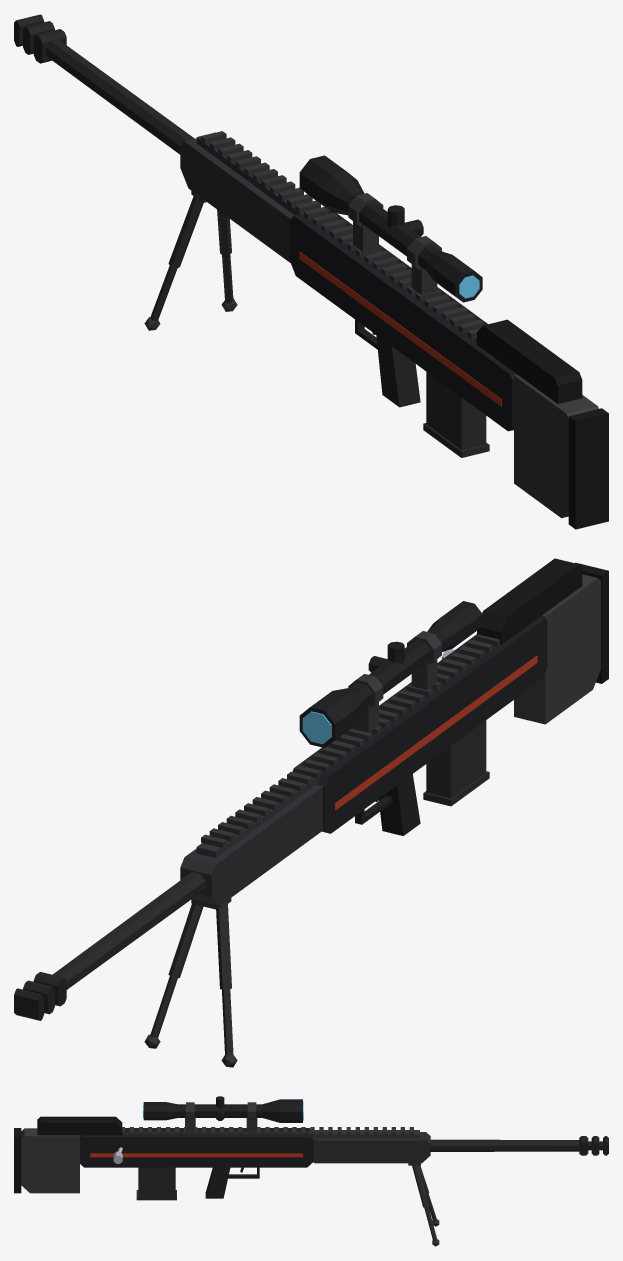
Rendered from Viper.obj.
3 views of the same model, one above another, from view 1: azimuth 30°, elevation 25°; view 2: azimuth 150°, elevation 25°; view 3: azimuth 270°, elevation 25° (orthographic). The views are drawn at different scales.
Visible parts, largest first — view 1: Body, Pad, Mount, Stock, Scope, Handguard, Barrel, Magazine, Bipod, Grip, Accent, Muzzle; view 2: Body, Mount, Stock, Handguard, Scope, Pad, Barrel, Bipod, Magazine, Muzzle, Accent, Grip (+1 smaller); view 3: Body, Stock, Handguard, Mount, Scope, Pad, Barrel, Magazine, Accent, Bipod, Grip, Muzzle.
Part boxes in pixels (x1,y1,x2,y2): Body: (289,211,516,431); Pad: (477,319,608,529); Mount: (196,131,484,342); Stock: (514,374,598,518); Scope: (299,155,482,302); Handguard: (180,138,294,262); Barrel: (45,39,194,154); Magazine: (423,372,489,457); Bipod: (144,191,237,330); Grip: (376,335,420,407); Accent: (299,251,501,406); Muzzle: (14,14,66,63); Body: (292,617,547,833); Mount: (196,631,499,857); Stock: (514,574,600,724); Handguard: (180,785,323,905); Scope: (299,601,482,747); Pad: (477,558,608,683); Barrel: (52,871,205,989); Bipod: (144,898,237,1067); Magazine: (423,720,489,806); Muzzle: (14,972,66,1020); Accent: (335,655,537,810); Grip: (378,774,420,835); Body: (80,1128,313,1167); Stock: (21,1128,79,1193); Handguard: (313,1132,430,1163); Mount: (122,1102,419,1138); Scope: (143,1096,302,1122); Pad: (14,1116,122,1193); Barrel: (430,1139,579,1151); Magazine: (136,1167,176,1200); Accent: (90,1153,302,1157); Bipod: (408,1163,439,1246); Grip: (205,1167,230,1198); Muzzle: (579,1136,608,1155).
Size of the model in its own units: 0.524 by 1.43 by 5.6.
